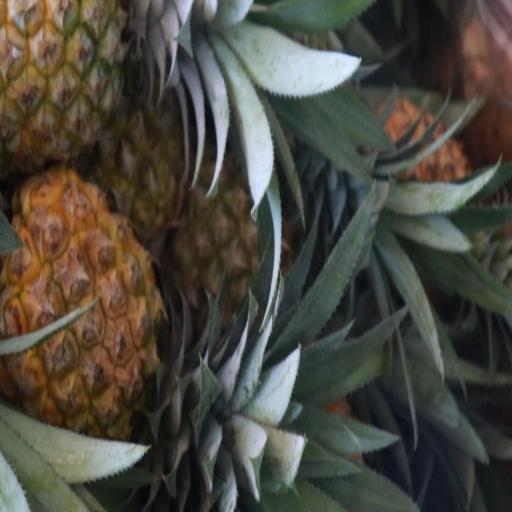Pineapple - v8 v1: (2, 175, 188, 437), (0, 0, 167, 156), (173, 137, 290, 333), (206, 76, 207, 76)
